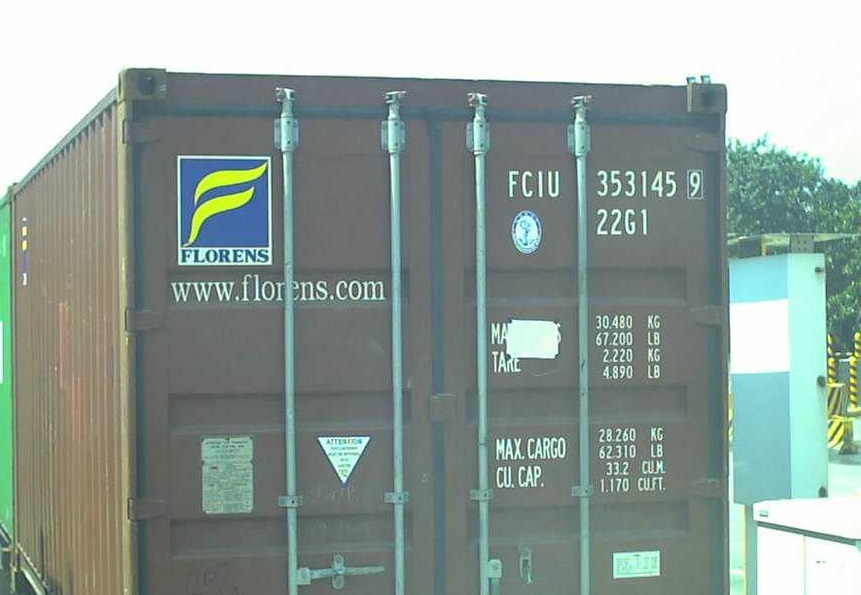container_door: (115, 63, 733, 595)
